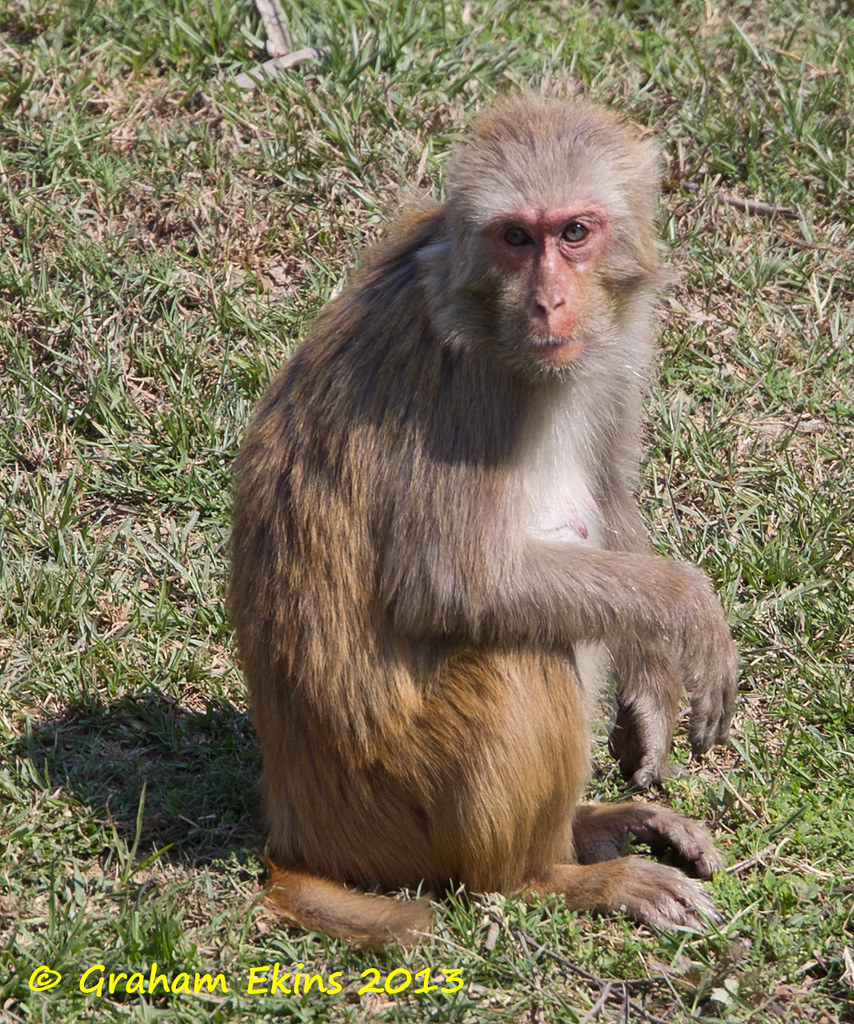monkey: (204, 80, 782, 1020)
